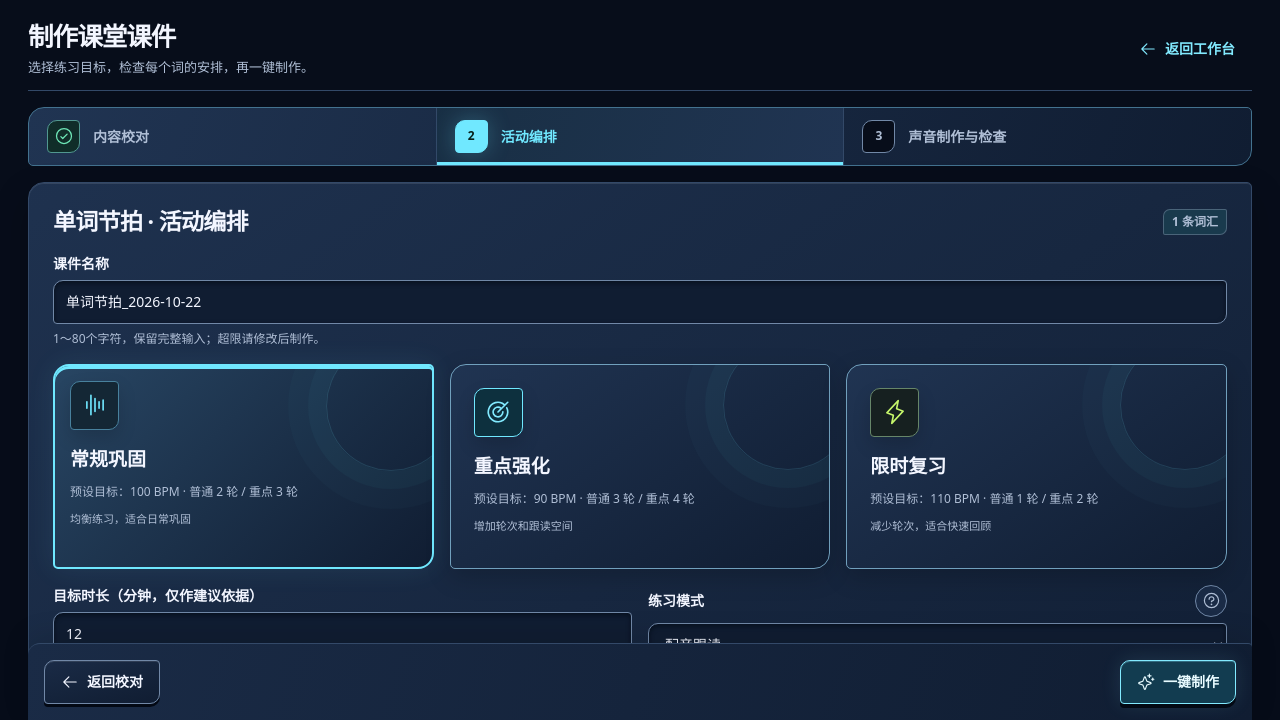
Test case: 三步制作会话 › 最终保存等待中继续编辑也保留新输入并提示版本不同
Click the button "一键制作" at [1178, 682], box [1120,660,1236,704]
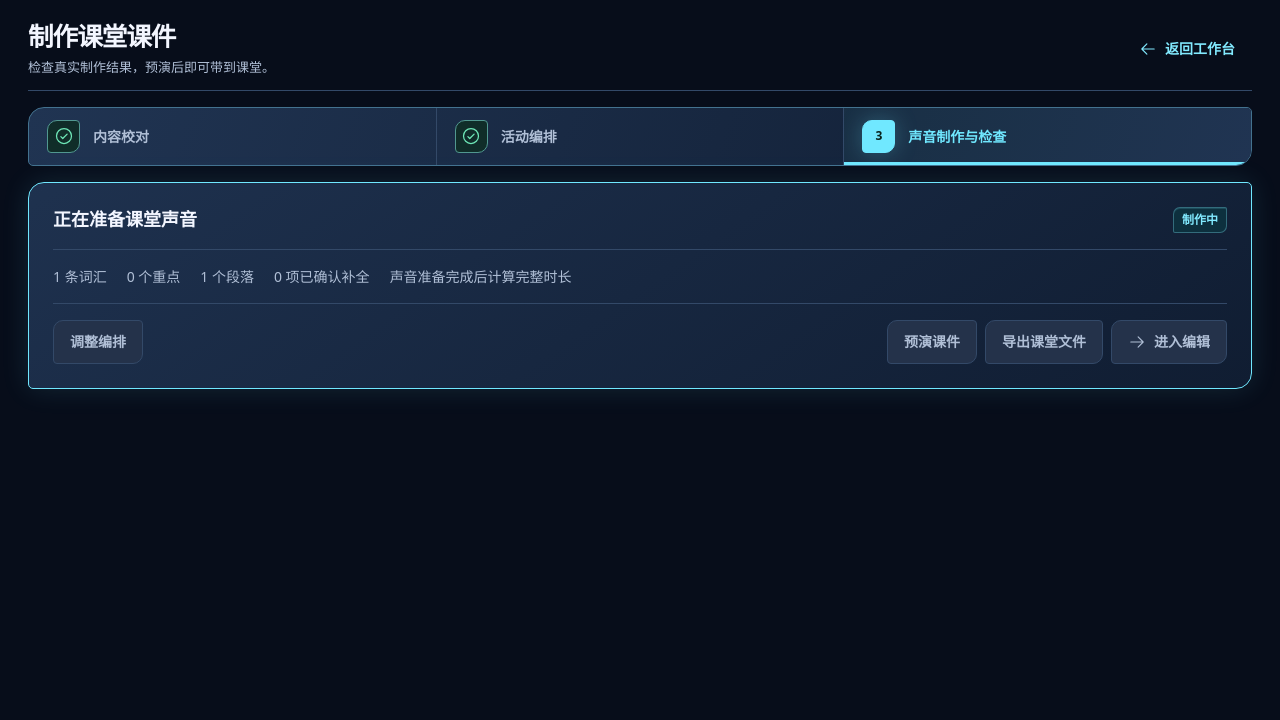
Click the button with aria-label "2 活动编排" at [471, 136], box [436,108,843,165]
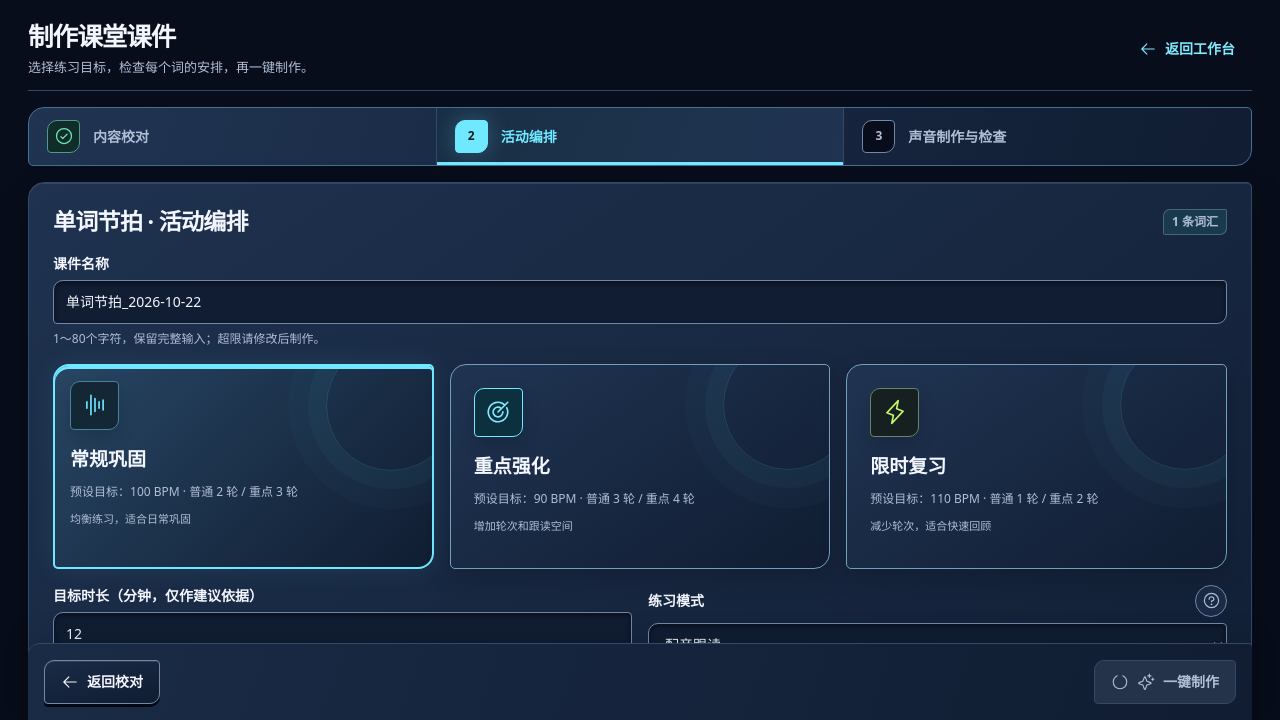
Replace the text in the field labelled "课件名称" with "保存期间的新名称" at [640, 302], box [53,280,1227,324]
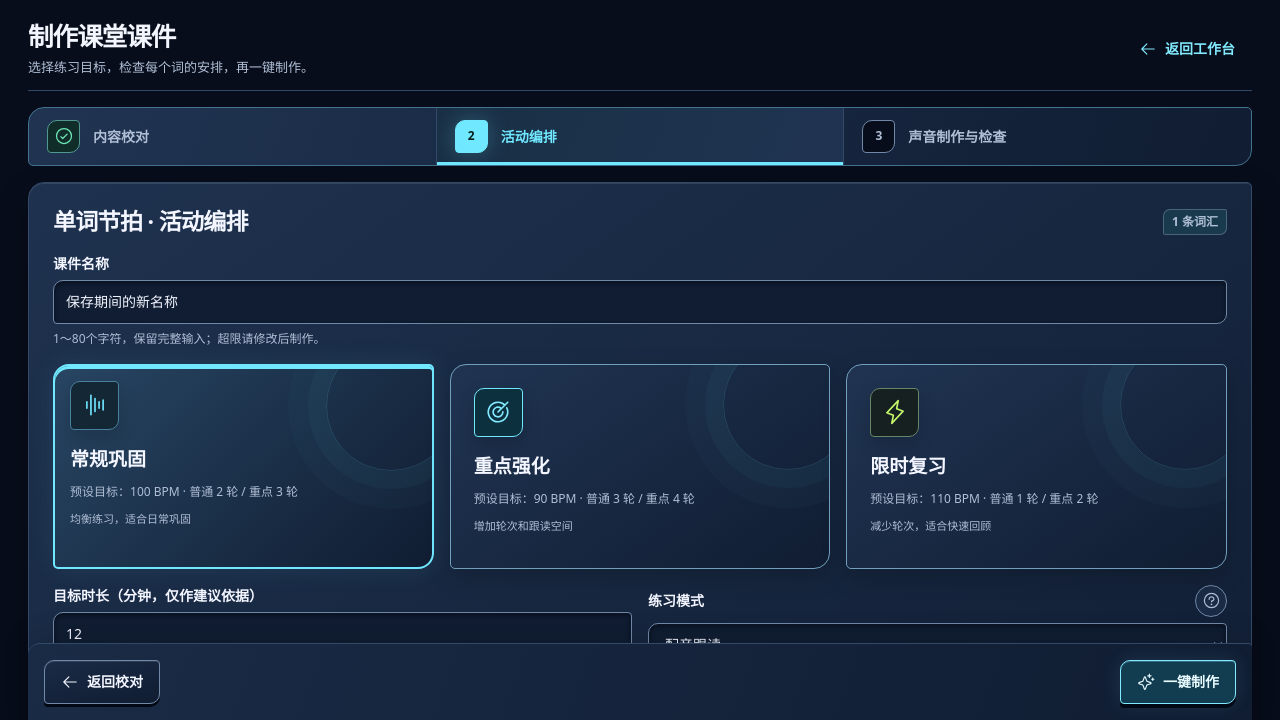
Click the button "3 声音制作与检查" at [879, 136], box [843,108,1251,165]
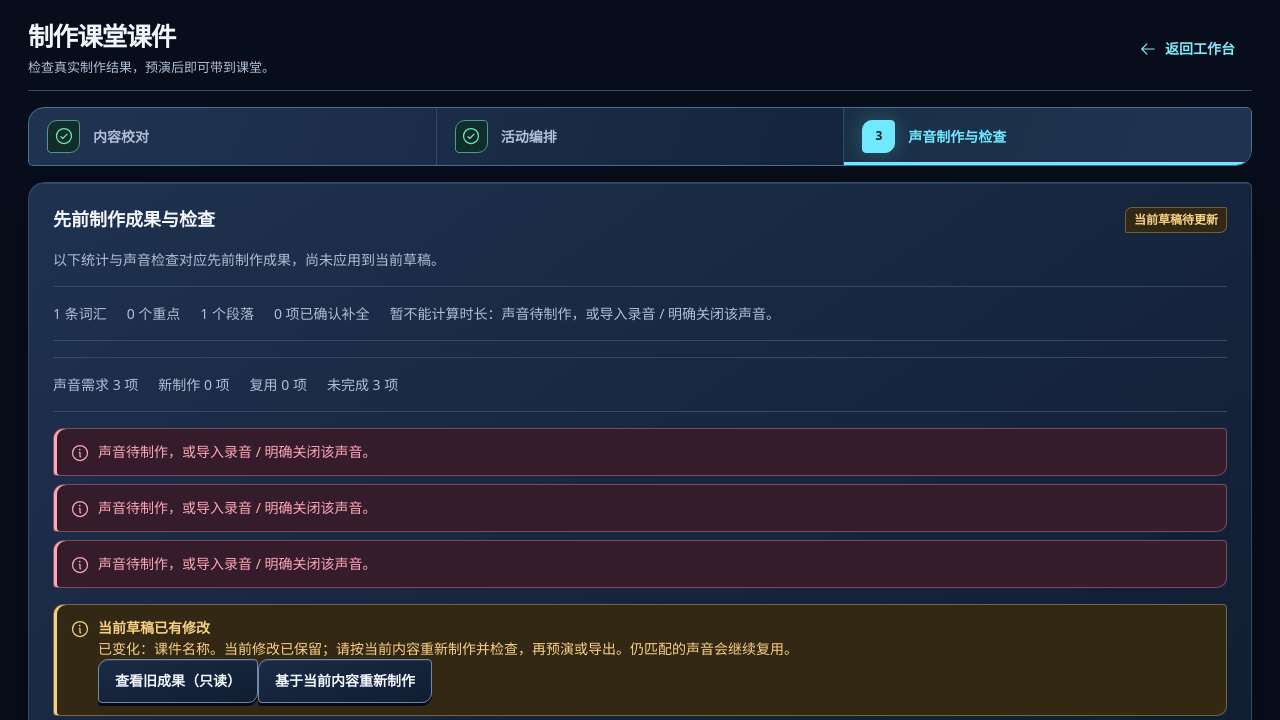
Expected: the button "查看旧成果（只读）" is shown, [98,659,258,703]
